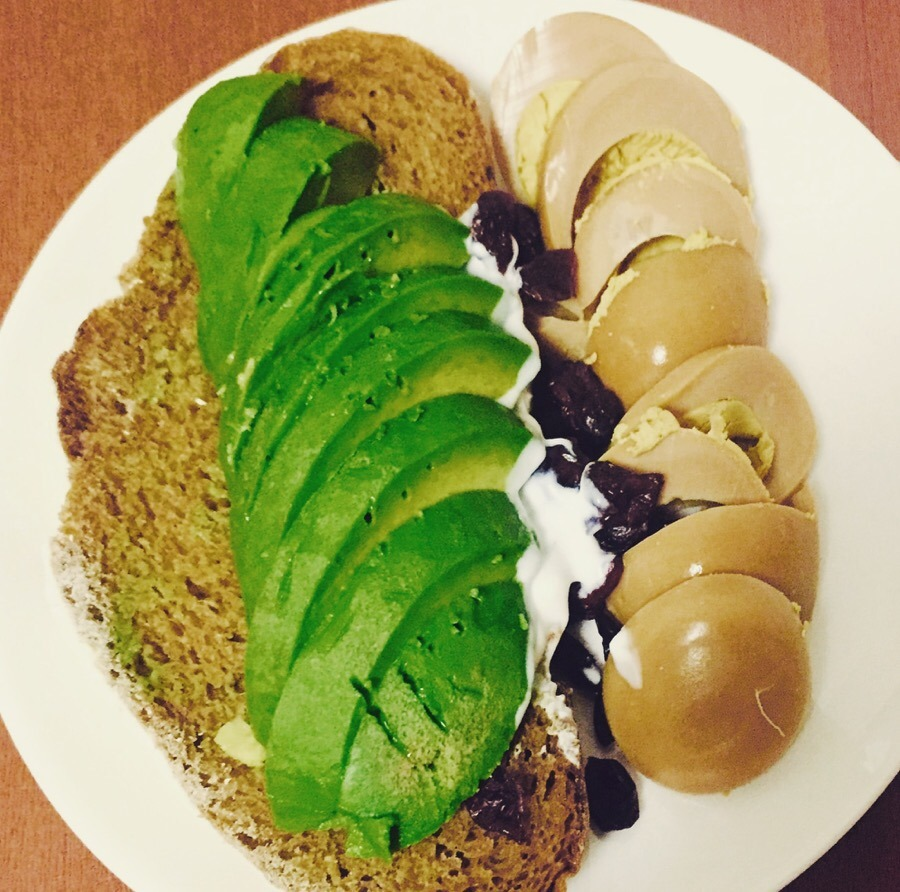slice of bread: (86, 22, 511, 855)
